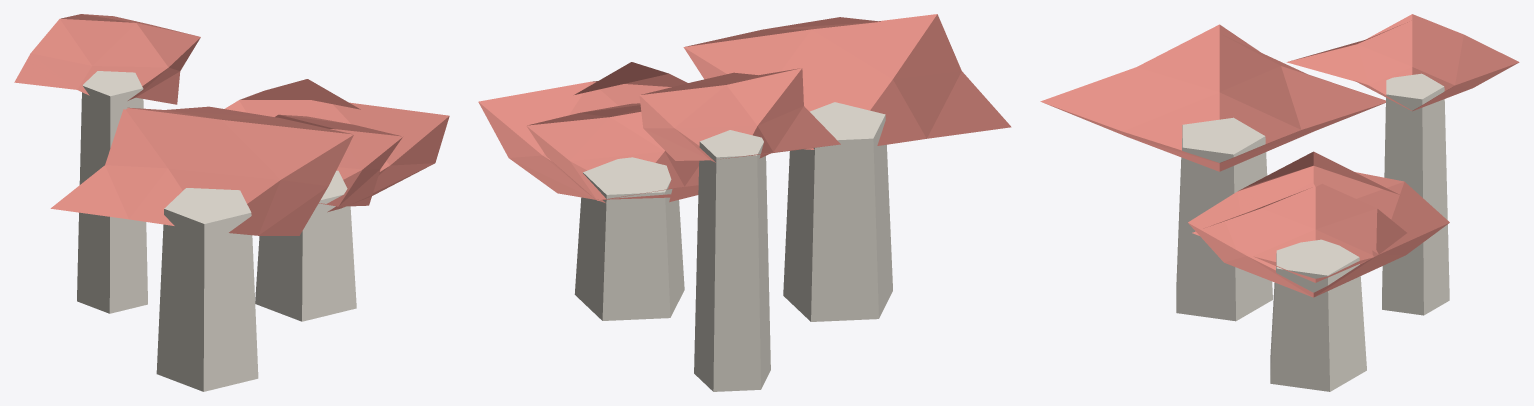
The model's file is mushroom_v34.glb.
3 views of the same model, side by side, from view 1: azimuth 30°, elevation 25°; view 2: azimuth 150°, elevation 25°; view 3: azimuth 270°, elevation 25° (orthographic). The views are drawn at different scales.
Parts seen in each view (by area): view 1: lod0; view 2: lod0; view 3: lod0.
Boxes of the visible parts, left/top/right/bottom form: lod0: left=14, top=14, right=449, bottom=391; lod0: left=478, top=14, right=1011, bottom=391; lod0: left=1040, top=14, right=1519, bottom=391.
Size of what is drawn, in the model's own units: 0.7384 by 0.4451 by 0.6907.
